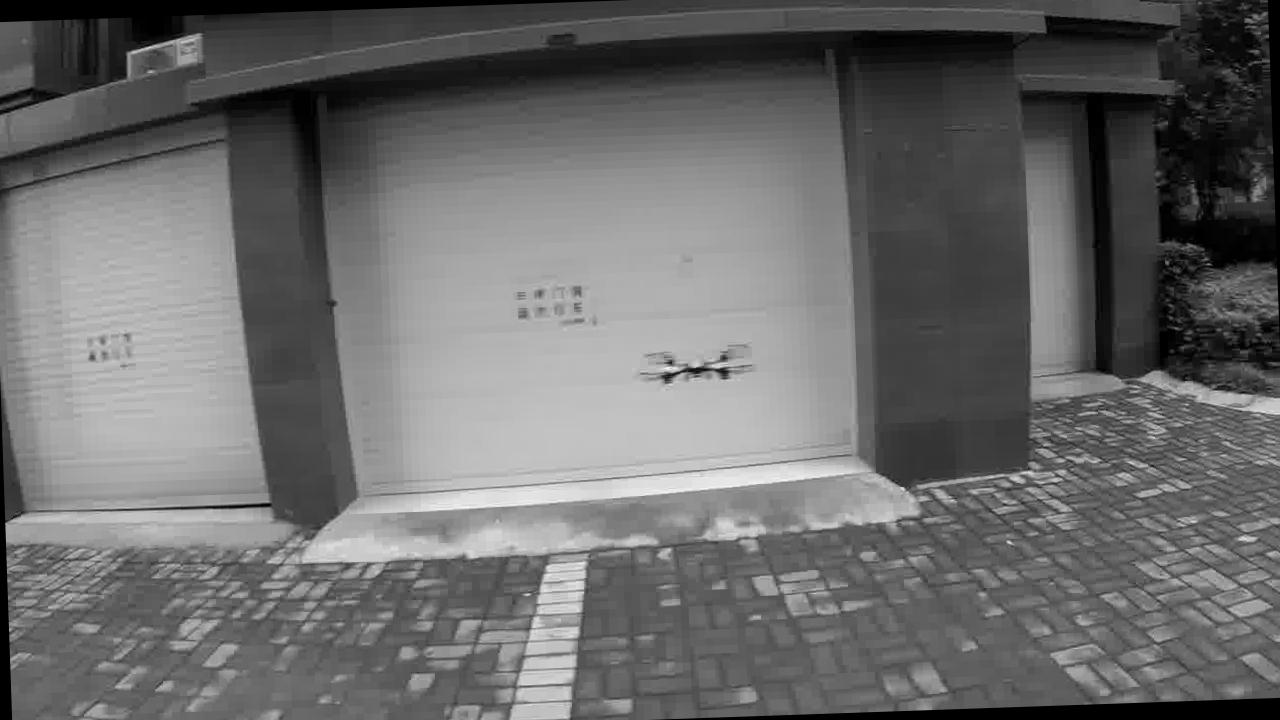drone: (627, 334, 756, 394)
